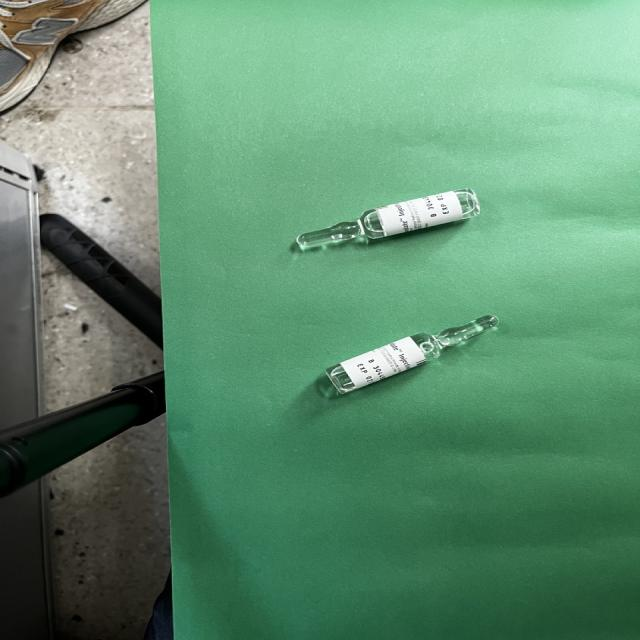Ampoules: (326, 315, 498, 394), (296, 188, 480, 251)
